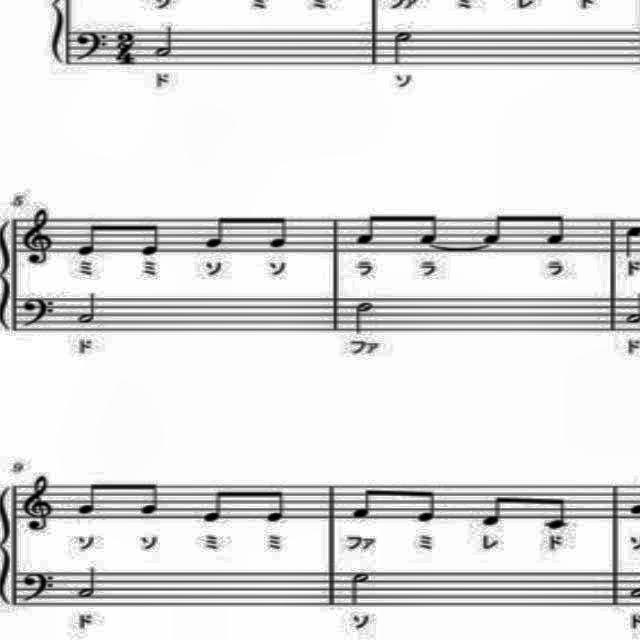Bass-clef: (19, 562, 59, 610), (20, 290, 60, 330), (73, 26, 111, 66)
Eighth-note: (264, 211, 298, 253), (74, 218, 108, 258), (538, 209, 572, 249), (134, 474, 164, 518), (200, 486, 232, 526), (478, 488, 510, 528), (350, 478, 378, 522), (478, 208, 508, 248), (413, 486, 442, 526), (539, 498, 573, 532), (352, 213, 383, 250), (72, 480, 102, 518), (200, 210, 228, 250), (264, 482, 288, 526), (137, 222, 163, 258), (416, 210, 440, 247)
Half-note: (352, 292, 376, 340), (349, 569, 379, 607), (150, 24, 178, 62), (74, 292, 102, 328), (76, 565, 102, 603), (392, 28, 416, 68)
Treble-clef: (19, 206, 59, 274), (18, 472, 60, 536)
